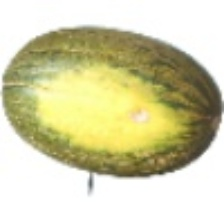honeydew: (33, 30, 203, 165)
